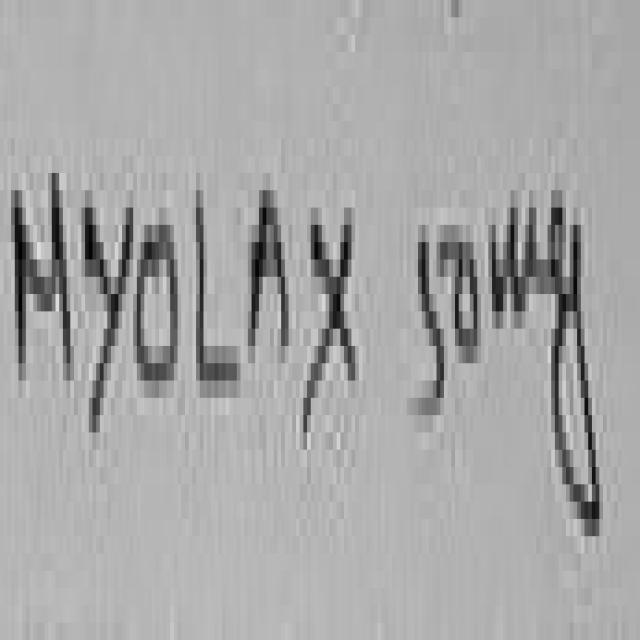0: (455, 242, 481, 363)
5: (422, 231, 457, 406)
A: (252, 190, 289, 346)
L: (196, 190, 240, 381)
M: (15, 173, 70, 381)
O: (137, 225, 178, 381)
X: (303, 225, 359, 424)
g: (551, 186, 603, 536)
m: (492, 208, 544, 329)
y: (85, 208, 133, 432)
